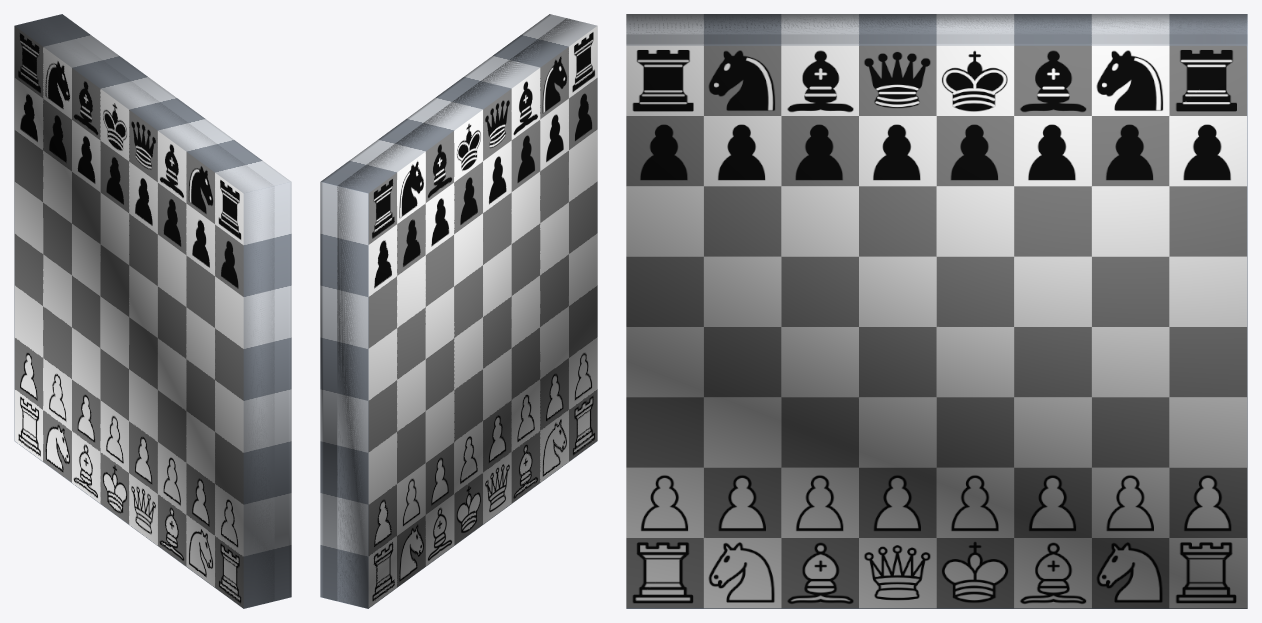
The model's file is chess.glb.
3 views of the same model, side by side, from view 1: azimuth 30°, elevation 25°; view 2: azimuth 150°, elevation 25°; view 3: azimuth 270°, elevation 25° (orthographic). The views are drawn at different scales.
Parts seen in each view (by area): view 1: Plane; view 2: Plane; view 3: Plane.
Boxes of the visible parts, x1=… form: Plane: x1=14, y1=14, x2=291, y2=608; Plane: x1=320, y1=14, x2=597, y2=608; Plane: x1=626, y1=14, x2=1247, y2=608.
Bounding box in the file's own units: 0.241 × 2 × 2.
Materials: 1 (1 with a texture image).
